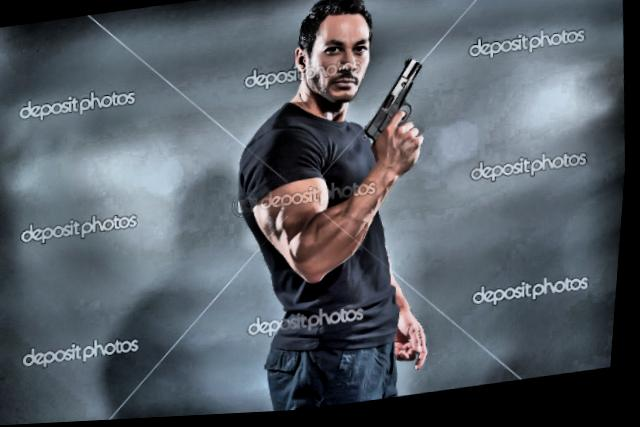pistol: (354, 57, 445, 172)
